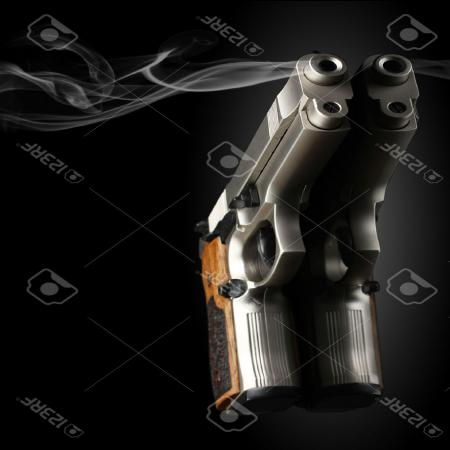Pistol: (193, 52, 355, 414)
